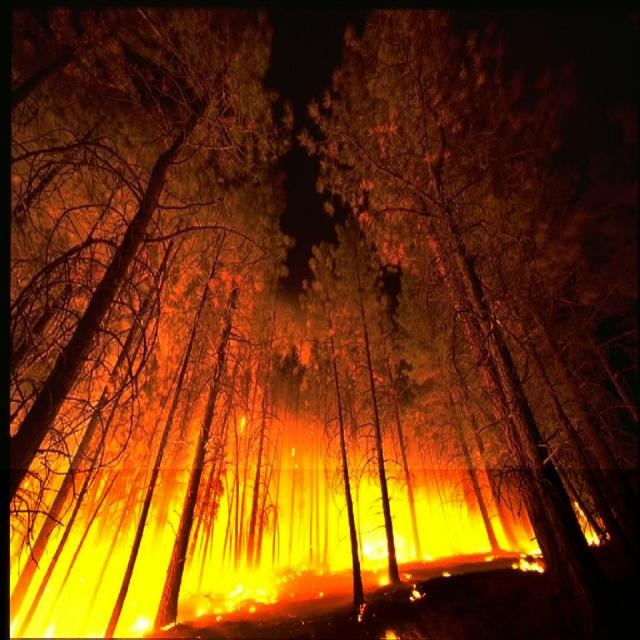Fire: (0, 469, 640, 640)
